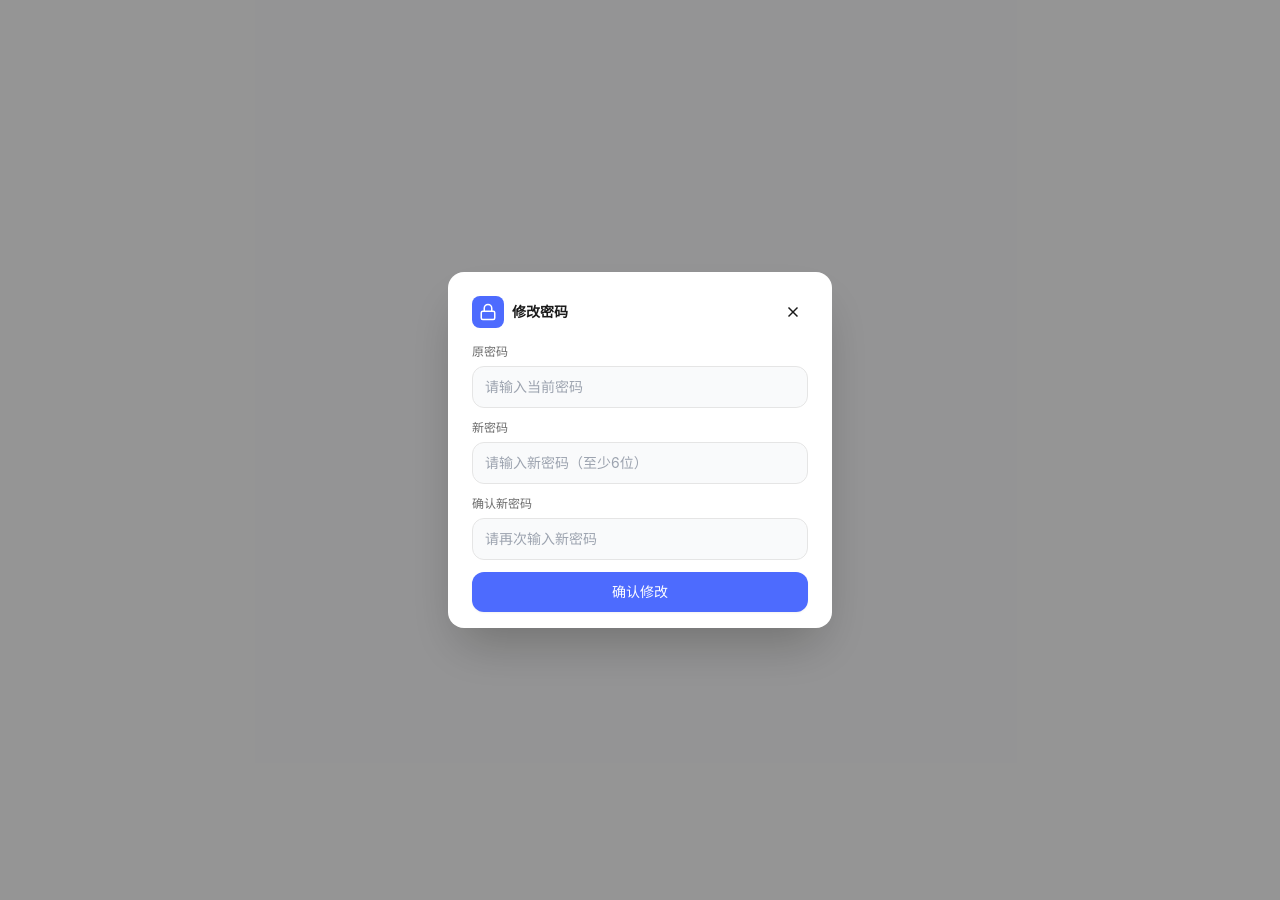
ChangePasswordModal › 非 force 缺原密码报错
In the password field with placeholder "请输入新密码（至少6位）": point(640, 463) x1=472 y1=442 x2=808 y2=484, type "abc123"
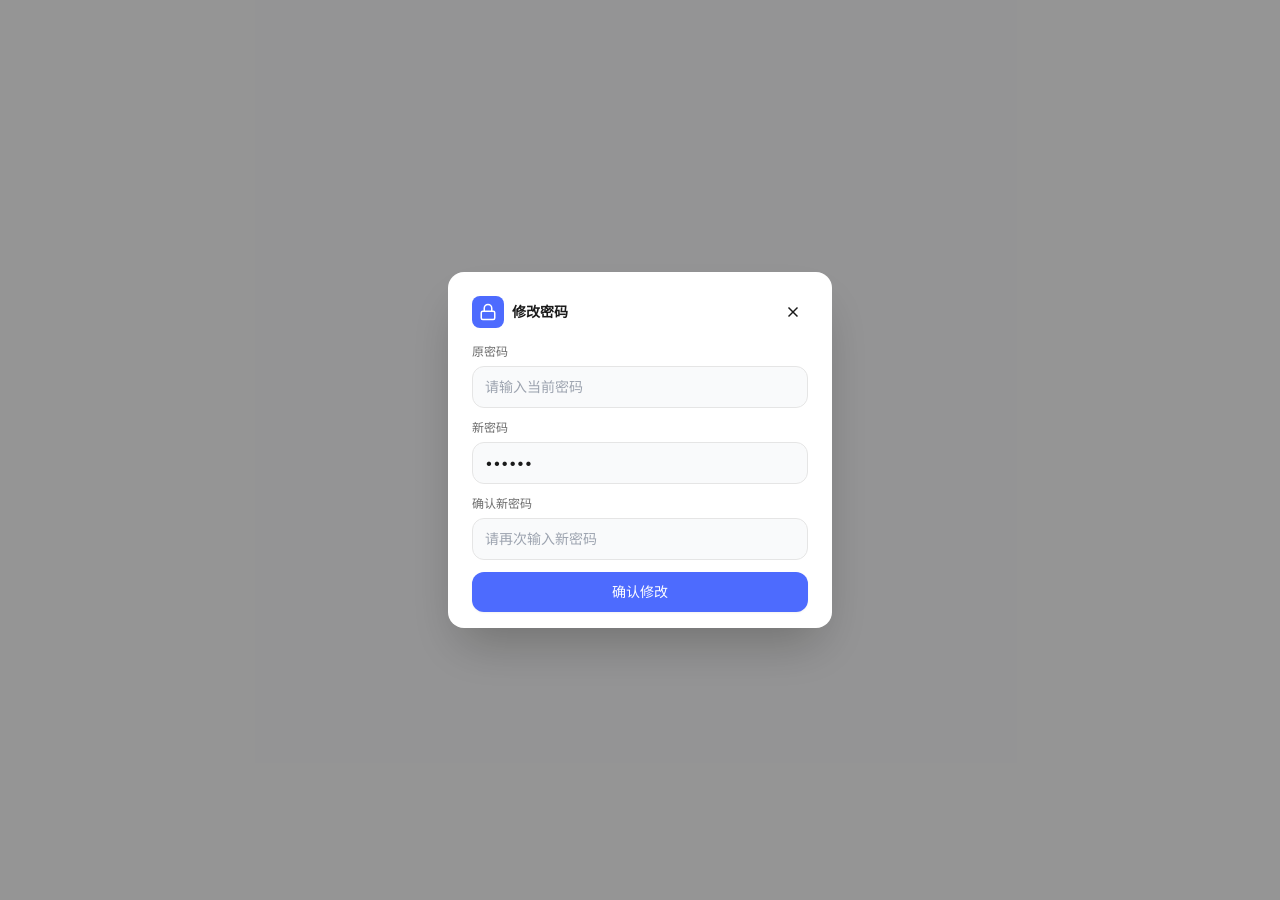
In the password field with placeholder "请再次输入新密码": point(640, 539) x1=472 y1=518 x2=808 y2=560, type "abc123"
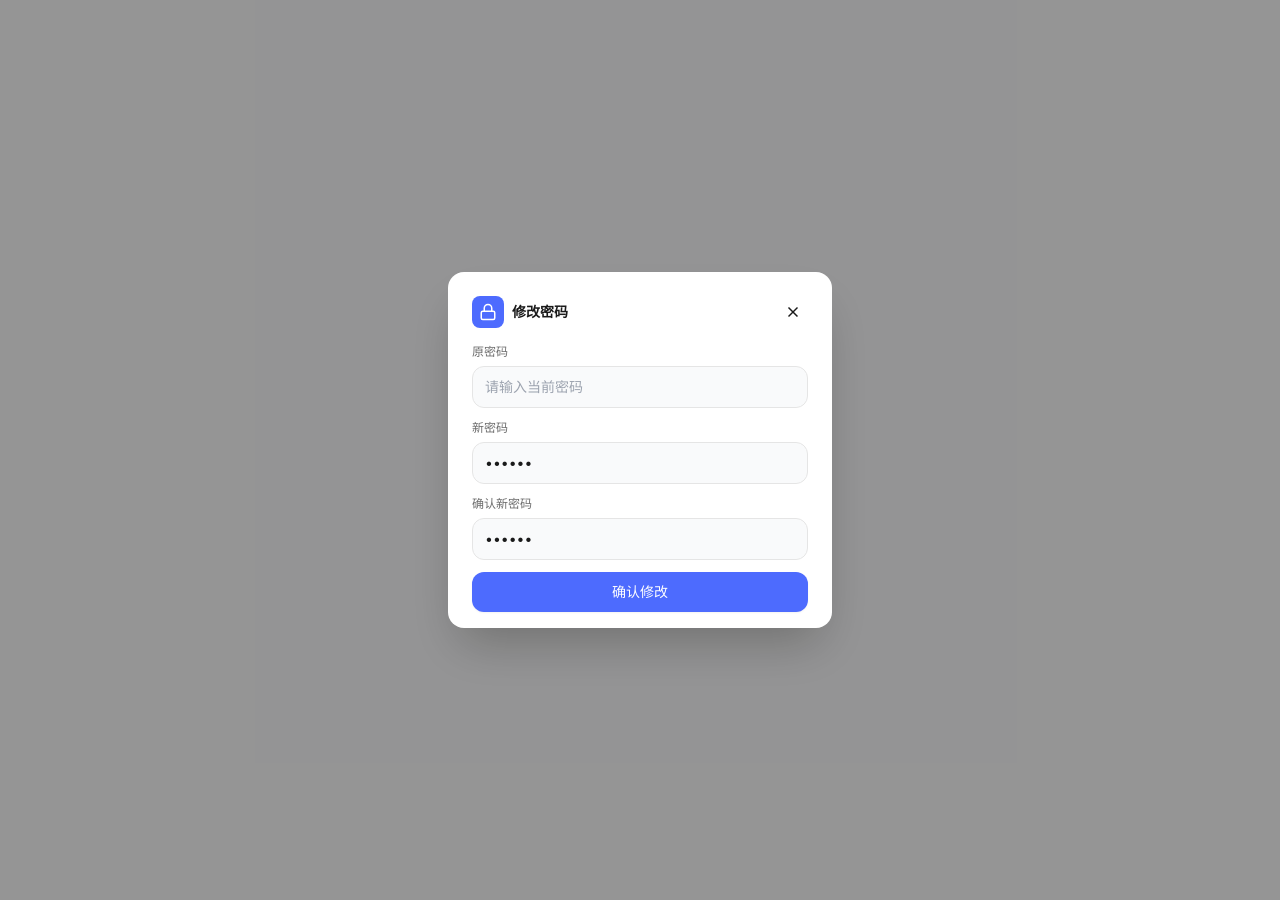
Click the button "确认修改": point(640, 592) x1=472 y1=572 x2=808 y2=612
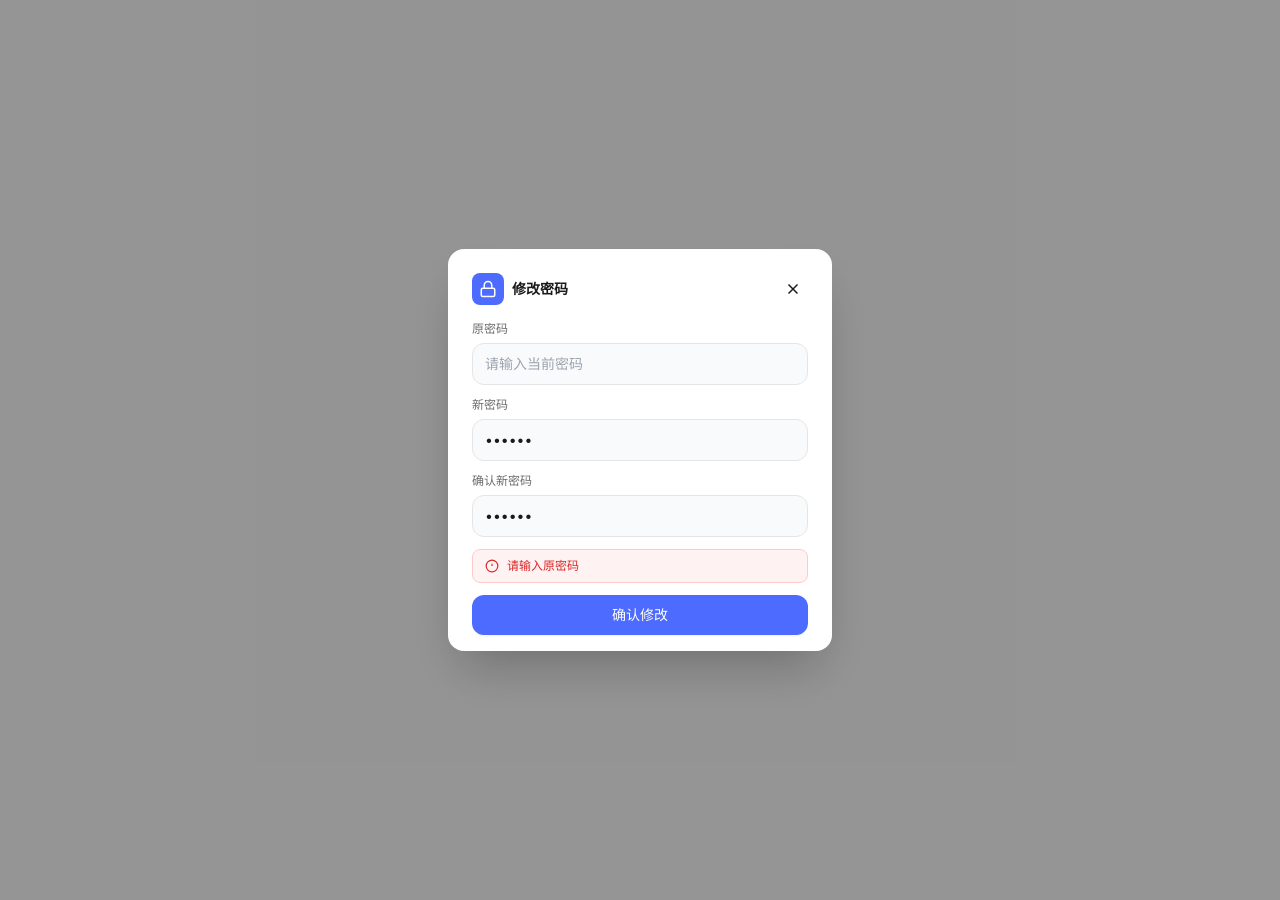
Now the text "请输入原密码" is shown, box x1=472 y1=549 x2=808 y2=583
